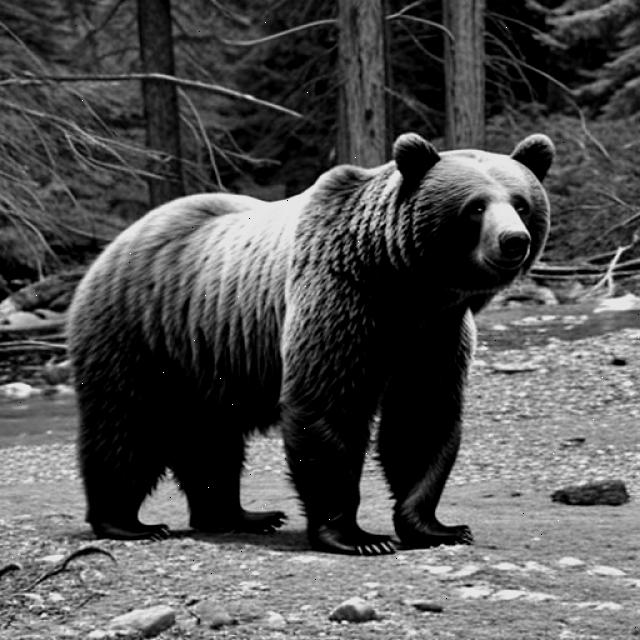bear: (373, 127, 591, 308)
